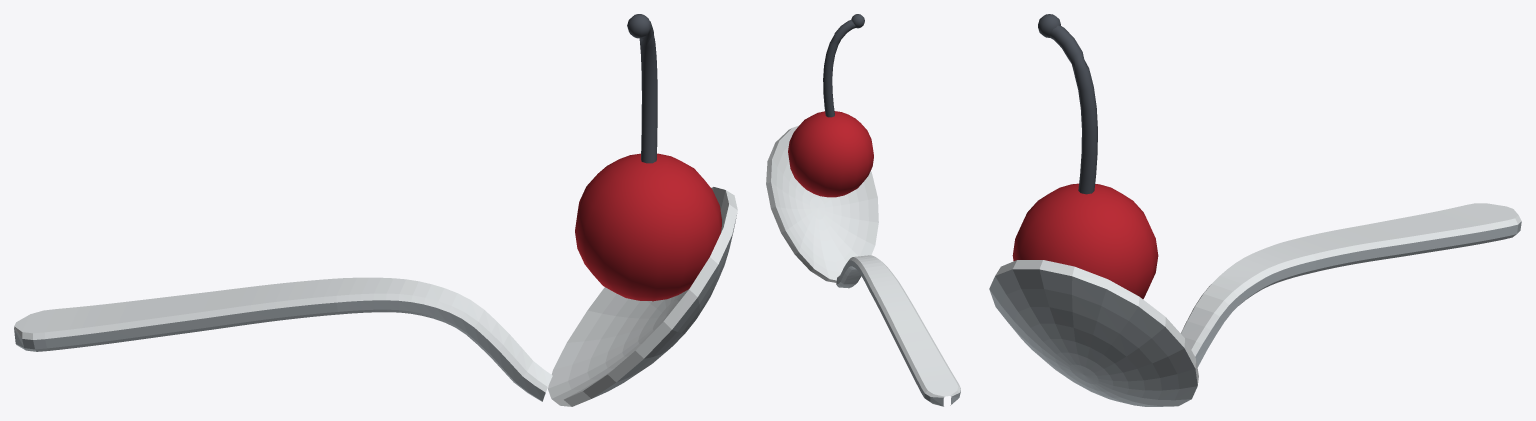
The model's file is msp-spoonbridge-and-cherry.glb.
3 views of the same model, side by side, from view 1: azimuth 30°, elevation 25°; view 2: azimuth 150°, elevation 25°; view 3: azimuth 270°, elevation 25° (orthographic). The views are drawn at different scales.
Visible parts, largest first — view 1: msp-spoonbridge-and-cherry; view 2: msp-spoonbridge-and-cherry; view 3: msp-spoonbridge-and-cherry.
Boxes of the visible parts, x1=… form: msp-spoonbridge-and-cherry: x1=14, y1=14, x2=737, y2=406; msp-spoonbridge-and-cherry: x1=766, y1=14, x2=960, y2=406; msp-spoonbridge-and-cherry: x1=989, y1=14, x2=1521, y2=406.
Size of the model in its own units: 11.44 by 8.98 by 10.61.
